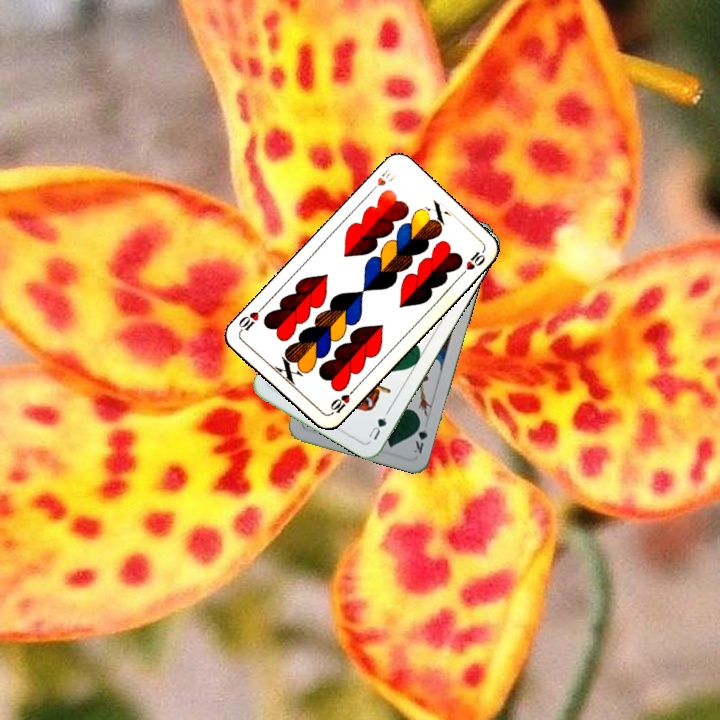GK: (408, 417, 430, 456)
GU: (363, 413, 389, 443)
H10: (325, 385, 357, 418), (365, 165, 393, 196)
